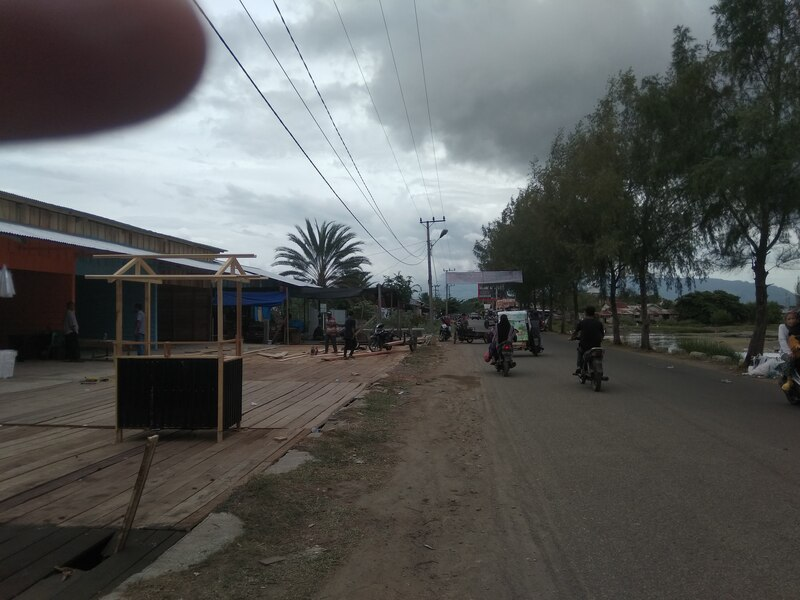becak barang: (367, 319, 424, 355), (452, 318, 496, 348)
